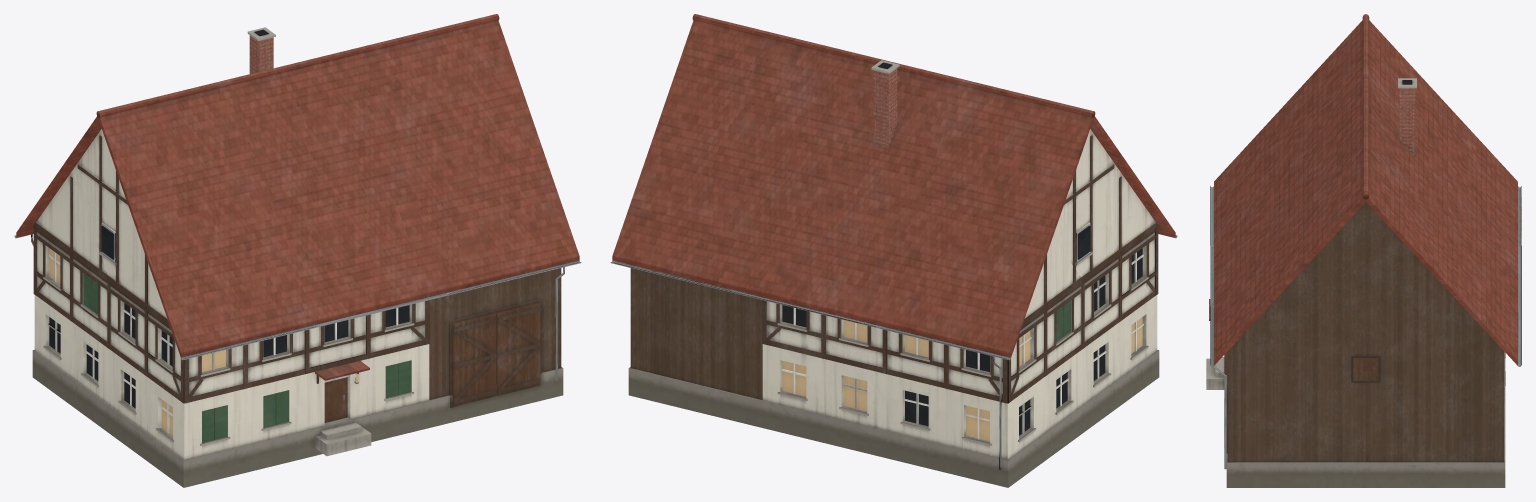
The model's file is village_farmhouse.glb.
The picture shows the model from 3 angles, left to right: view 1: azimuth 30°, elevation 25°; view 2: azimuth 150°, elevation 25°; view 3: azimuth 270°, elevation 25°; orthographic projection. The views are drawn at different scales.
Parts seen in each view (by area): view 1: village_farmhouse; view 2: village_farmhouse; view 3: village_farmhouse.
Part boxes in pixels (x1,y1,x2,y2): village_farmhouse: [14, 14, 581, 487]; village_farmhouse: [610, 14, 1177, 487]; village_farmhouse: [1206, 14, 1521, 487].
Size of the model in its own units: 16.94 by 13.81 by 12.55.
1 material, 1 textured.
